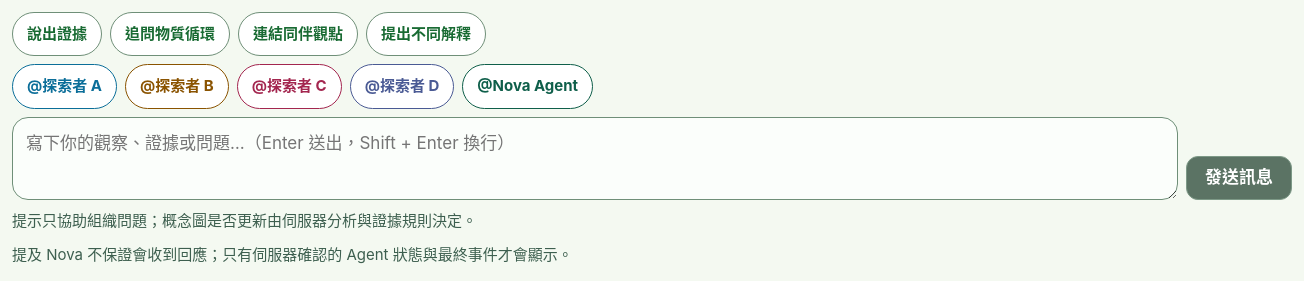
event-backed chat components › inserts an editable inquiry prompt without sending
Click the button with aria-label "使用提示：追問物質循環" at (170, 34), box [110,12,230,56]
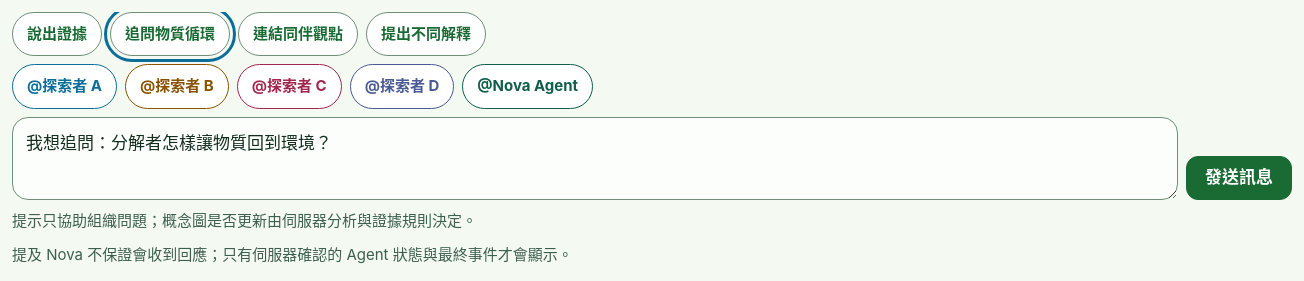
Expected: the text "提示只協助組織問題；概念圖是否更新由伺服器分析與證據規則決定。" is shown, [12,211,477,230]
Now the text box named "輸入訊息" holds "我想追問：分解者怎樣讓物質回到環境？", box [12,116,1178,200]
